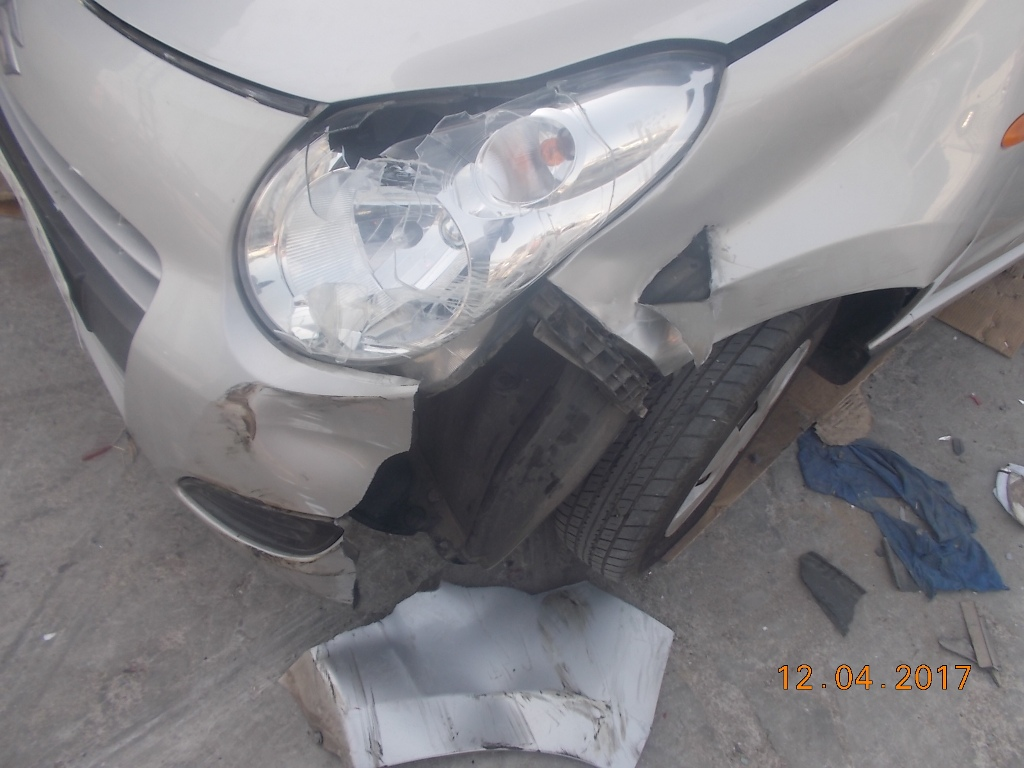Dent: (748, 19, 994, 242)
Tear: (338, 380, 419, 627), (633, 231, 720, 329)
